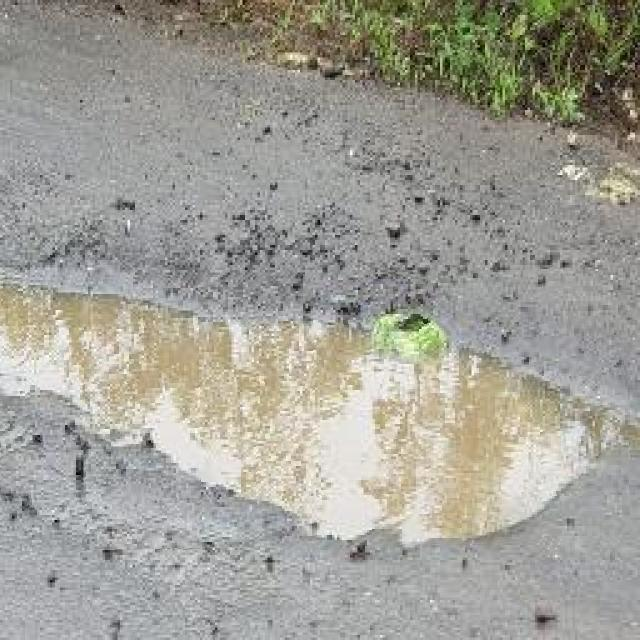puddle: (1, 271, 630, 549)
